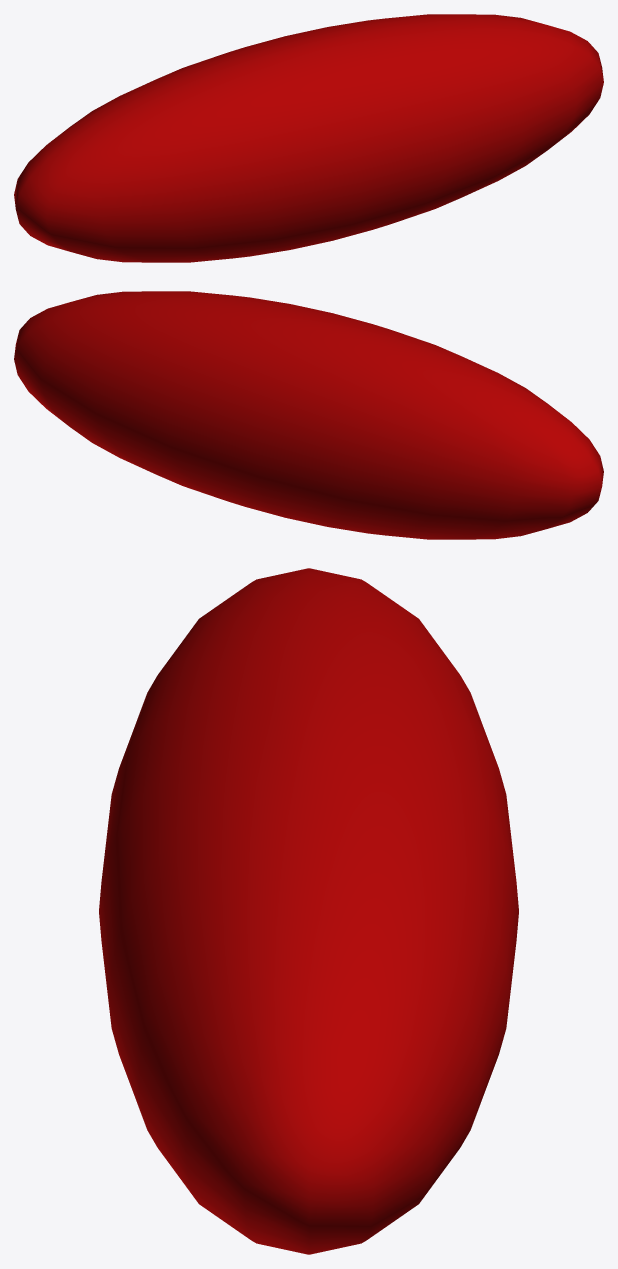
The model's file is tama.fbx.
3 renders of one model, top to bottom at view 1: azimuth 30°, elevation 25°; view 2: azimuth 150°, elevation 25°; view 3: azimuth 270°, elevation 25°, orthographic. The views are drawn at different scales.
Visible parts, largest first — view 1: pSphere1; view 2: pSphere1; view 3: pSphere1.
Part boxes in pixels (x1,y1,x2,y2): pSphere1: (14, 14, 603, 262); pSphere1: (14, 291, 603, 539); pSphere1: (99, 568, 518, 1254).
Bounding box in the file's own units: 6.44 × 2 × 2.
